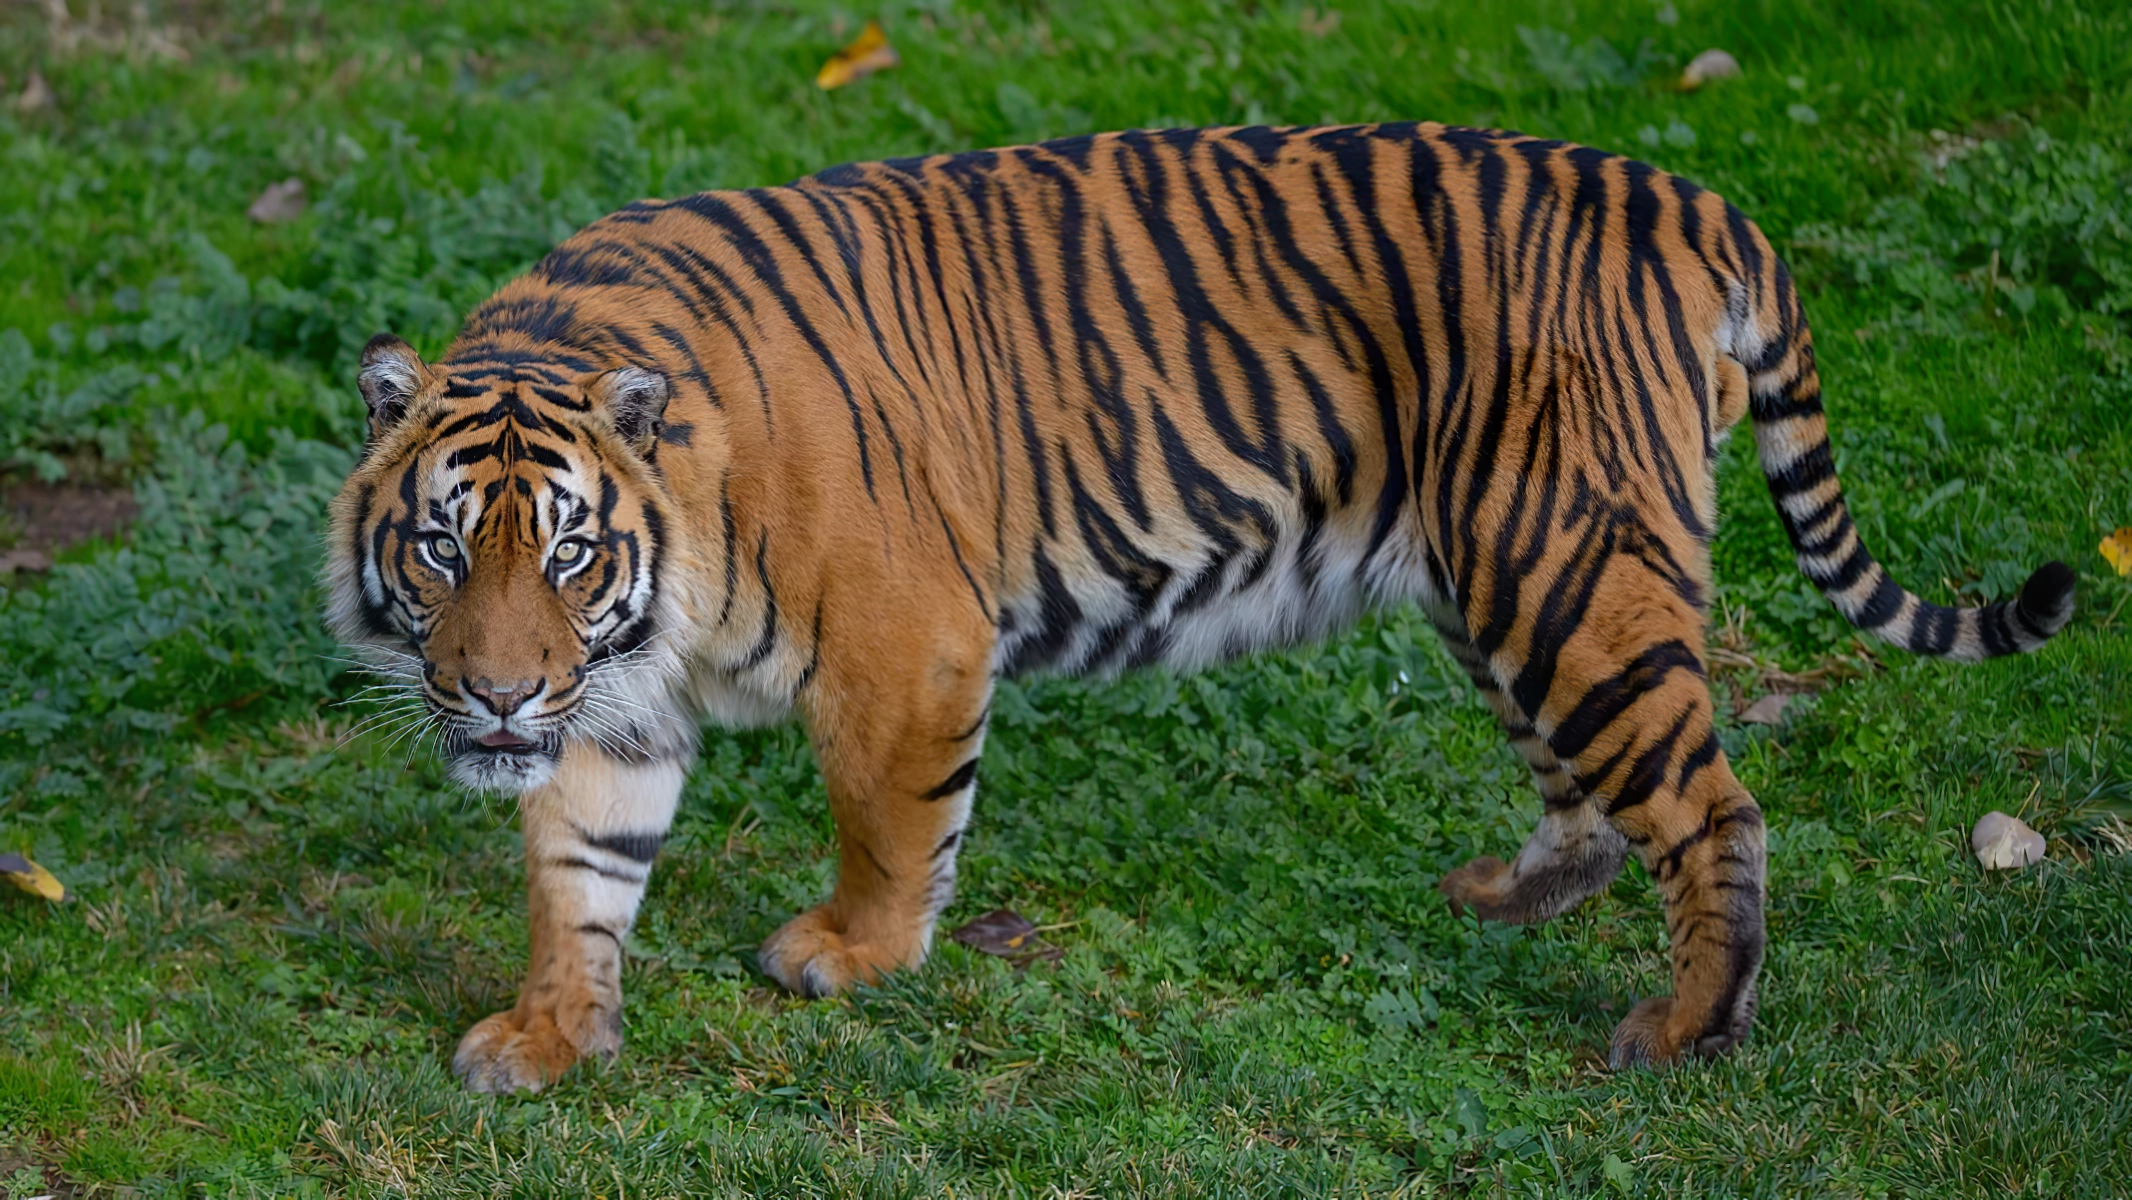tiger: (294, 78, 2076, 1130)
